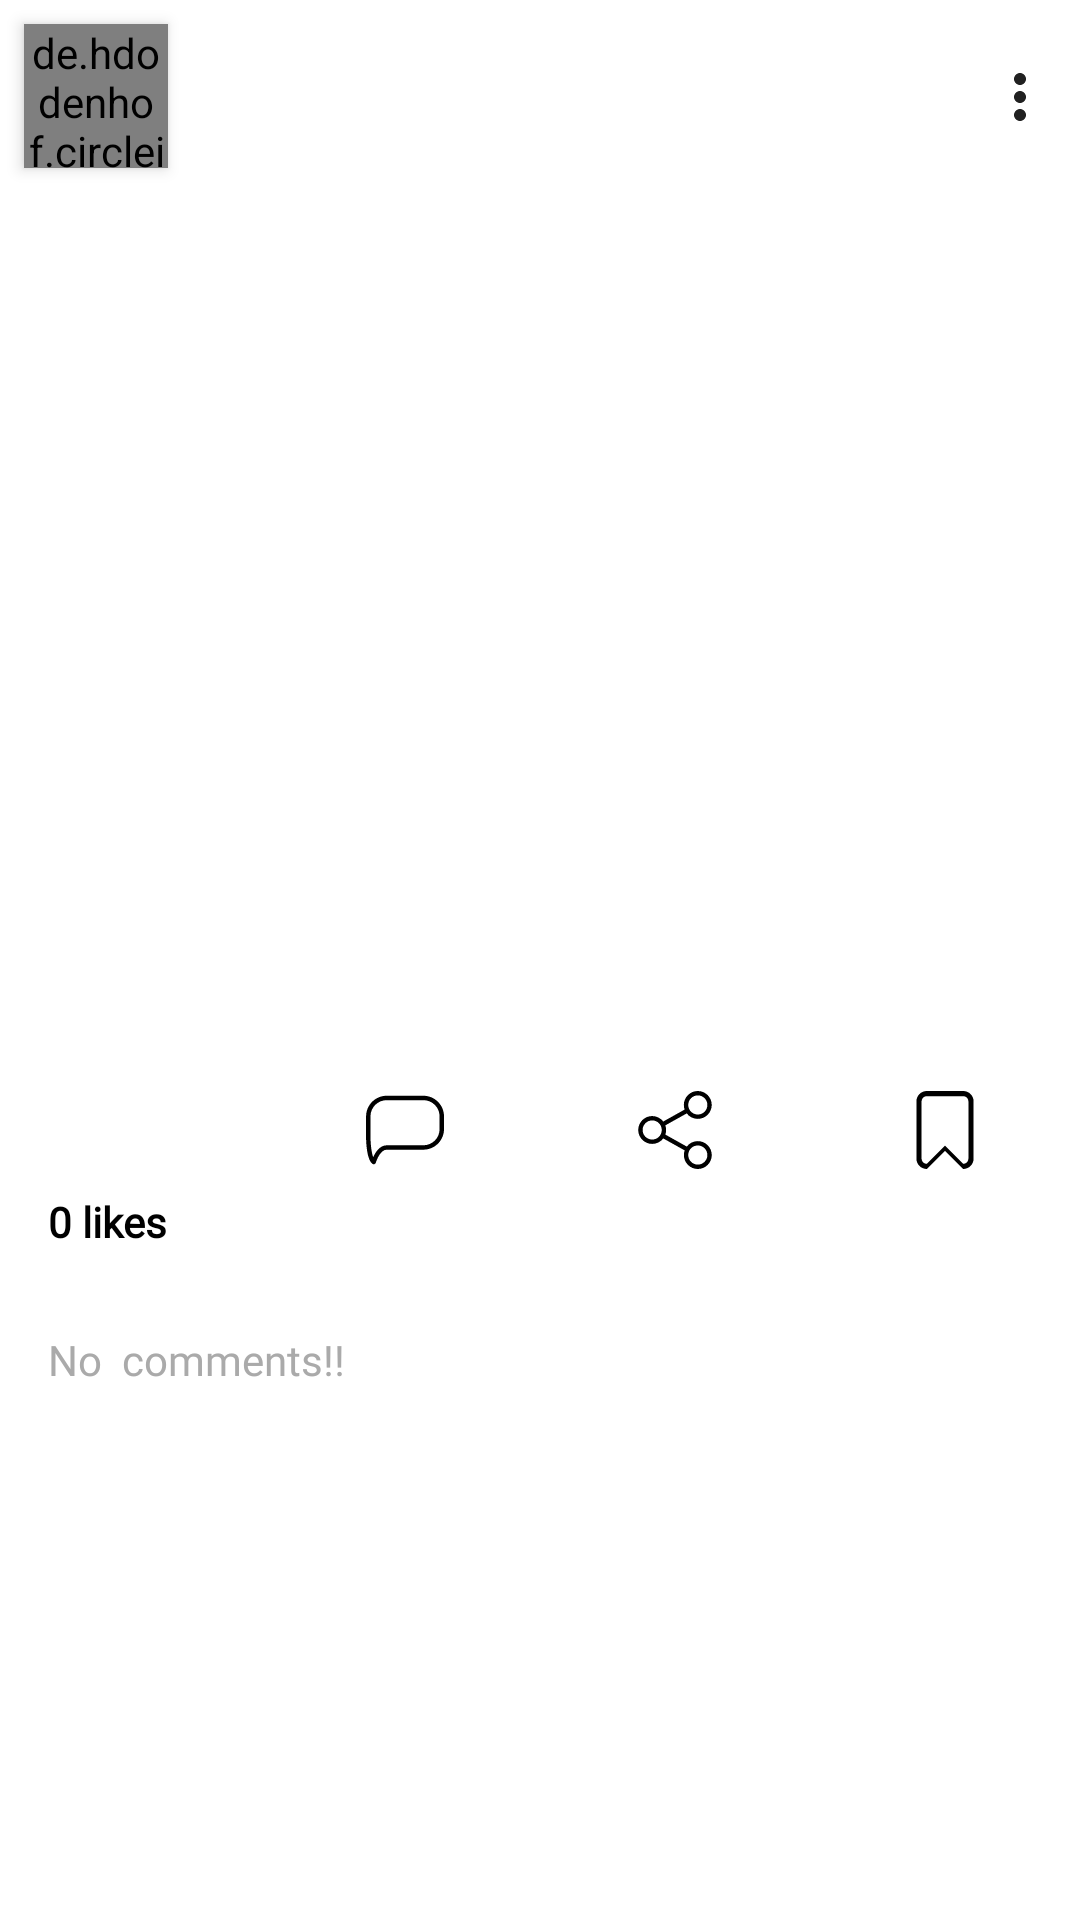

Icon bounding boxes for this 1080x1920 phone screenshot, format (x1, y1, x2, y2):
bookmark: (916, 1091, 974, 1169)
comment: (366, 1095, 444, 1165)
share: (638, 1091, 712, 1169)
